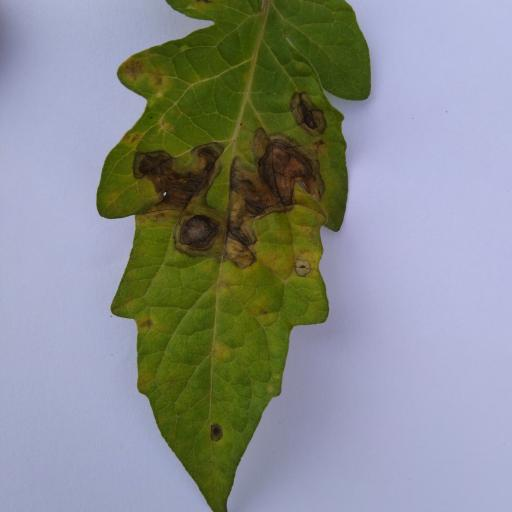disease_tomato: (94, 0, 372, 512)
